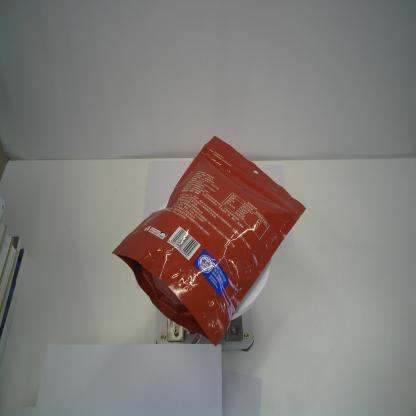Dried Food: (111, 135, 307, 346)
